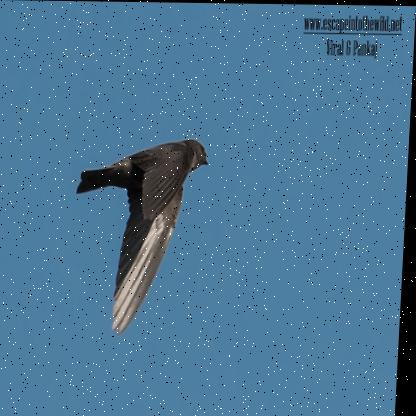Burung: (73, 137, 211, 335)
